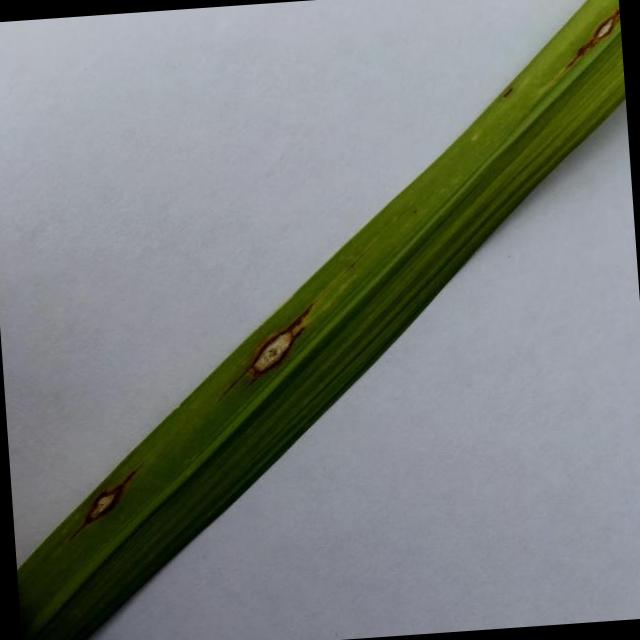Rice_Blast: (208, 258, 324, 398), (48, 438, 164, 554), (554, 0, 622, 73)
